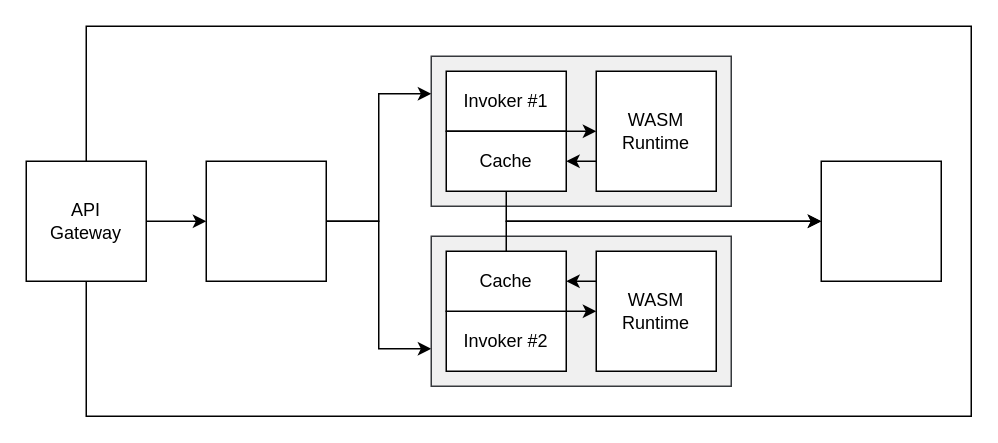
The diagram is 998 pixels wide and 443 high, and some of its shapes have lost their labels. The shapes that lost their labels are listed below. From the top down, each one's centre as x and y in pixels, then its label:
pixel 265 220: Load Balancer
pixel 880 220: Function Store
